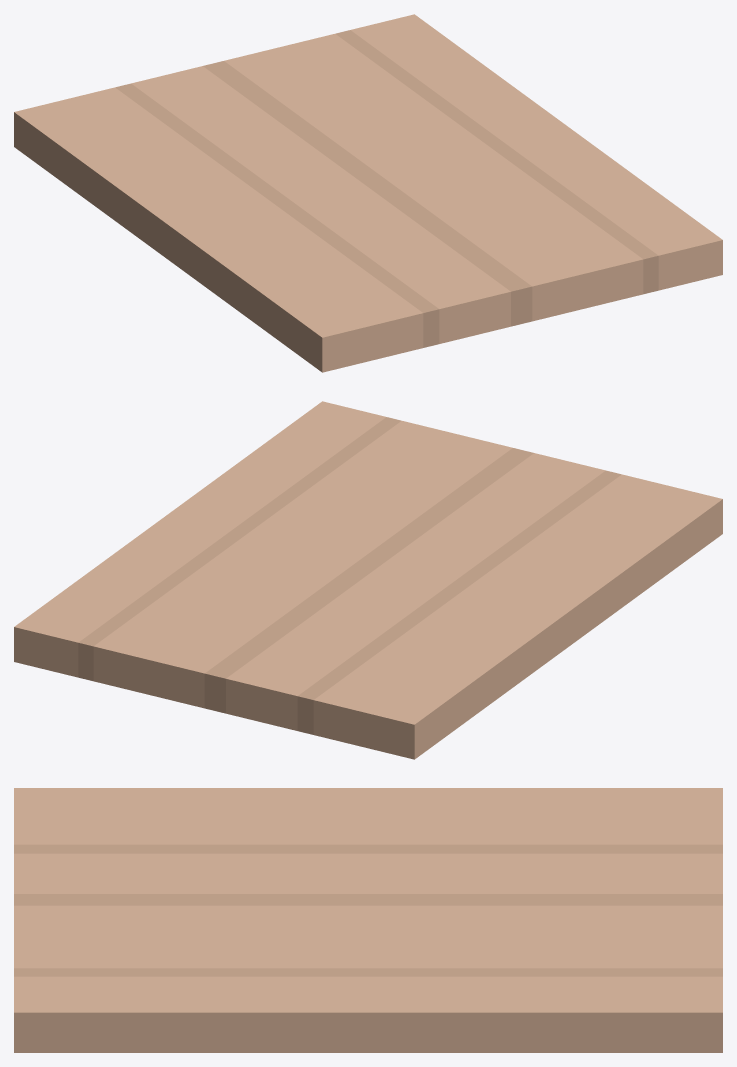
Rendered from Cutting Board.fbx.
3 views of the same model, one above another, from view 1: azimuth 30°, elevation 25°; view 2: azimuth 150°, elevation 25°; view 3: azimuth 270°, elevation 25° (orthographic). The views are drawn at different scales.
Visible parts, largest first — view 1: Cutting Board; view 2: Cutting Board; view 3: Cutting Board.
Boxes of the visible parts, x1,y1,x2,y2 form: Cutting Board: (14,14,722,372); Cutting Board: (14,401,722,759); Cutting Board: (14,788,722,1052).
Size of the model in its own units: 0.3048 by 0.0254 by 0.4064.
